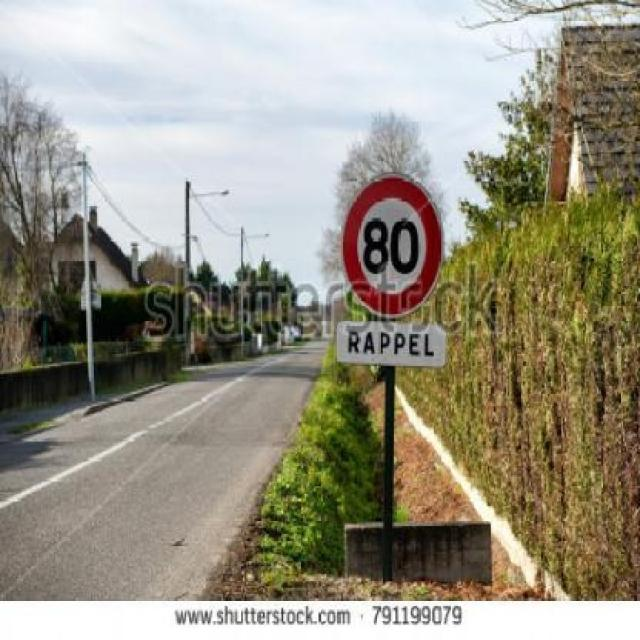forb_speed_over_80: (344, 172, 441, 316)
